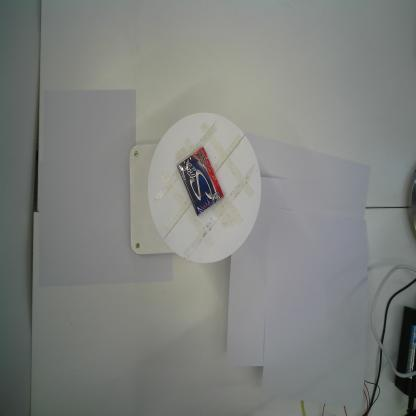Gum: (176, 146, 226, 218)
